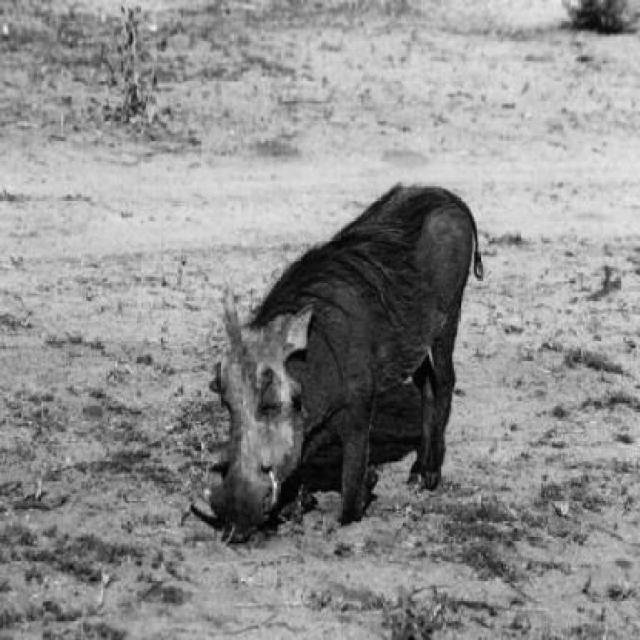Boar: (206, 178, 488, 548)
